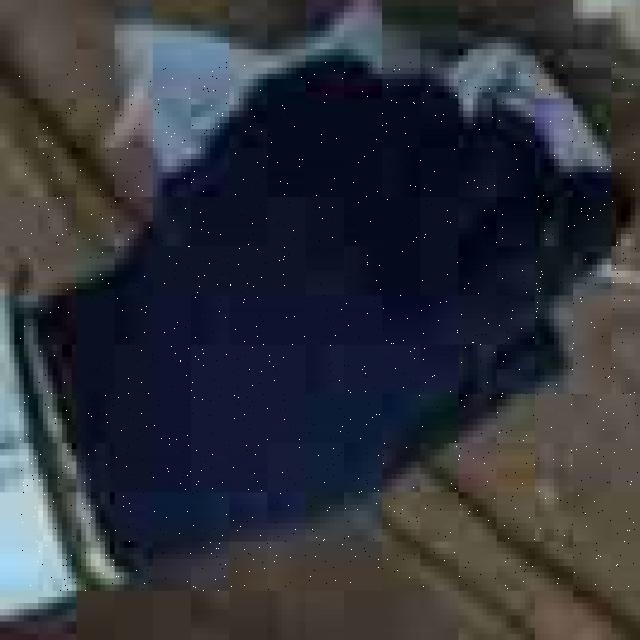other: (19, 62, 640, 590)
